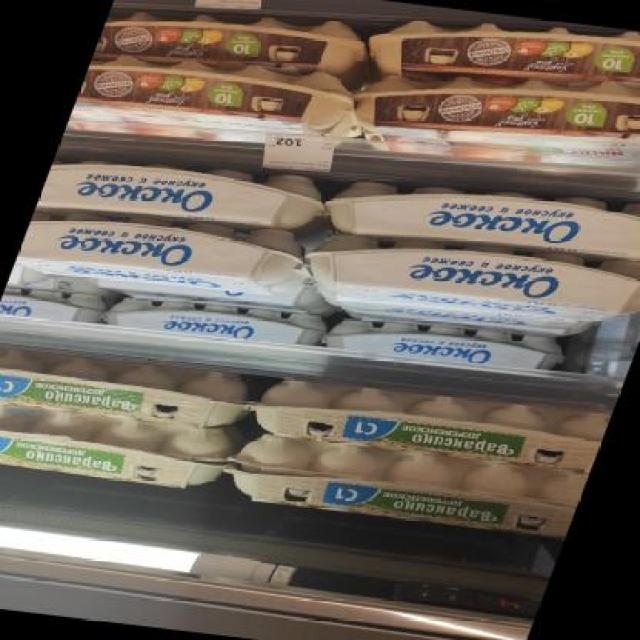Egg: (220, 432, 589, 539), (333, 51, 639, 178), (242, 374, 610, 474), (298, 225, 640, 330), (316, 167, 639, 273), (357, 0, 640, 110), (14, 204, 317, 301), (36, 145, 335, 241), (72, 50, 366, 146), (95, 0, 388, 83), (0, 343, 262, 434), (0, 398, 240, 497), (319, 311, 572, 374), (105, 293, 332, 349)
